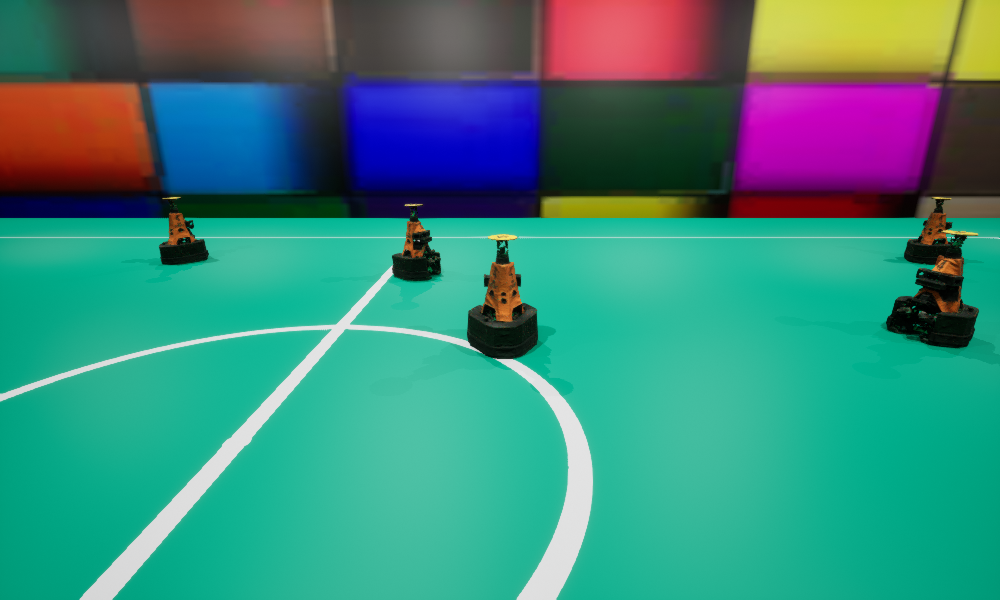0 orange robot TechUnited: (886, 230, 978, 347), (467, 234, 537, 358), (392, 204, 440, 280), (159, 197, 208, 264), (904, 197, 953, 264)
